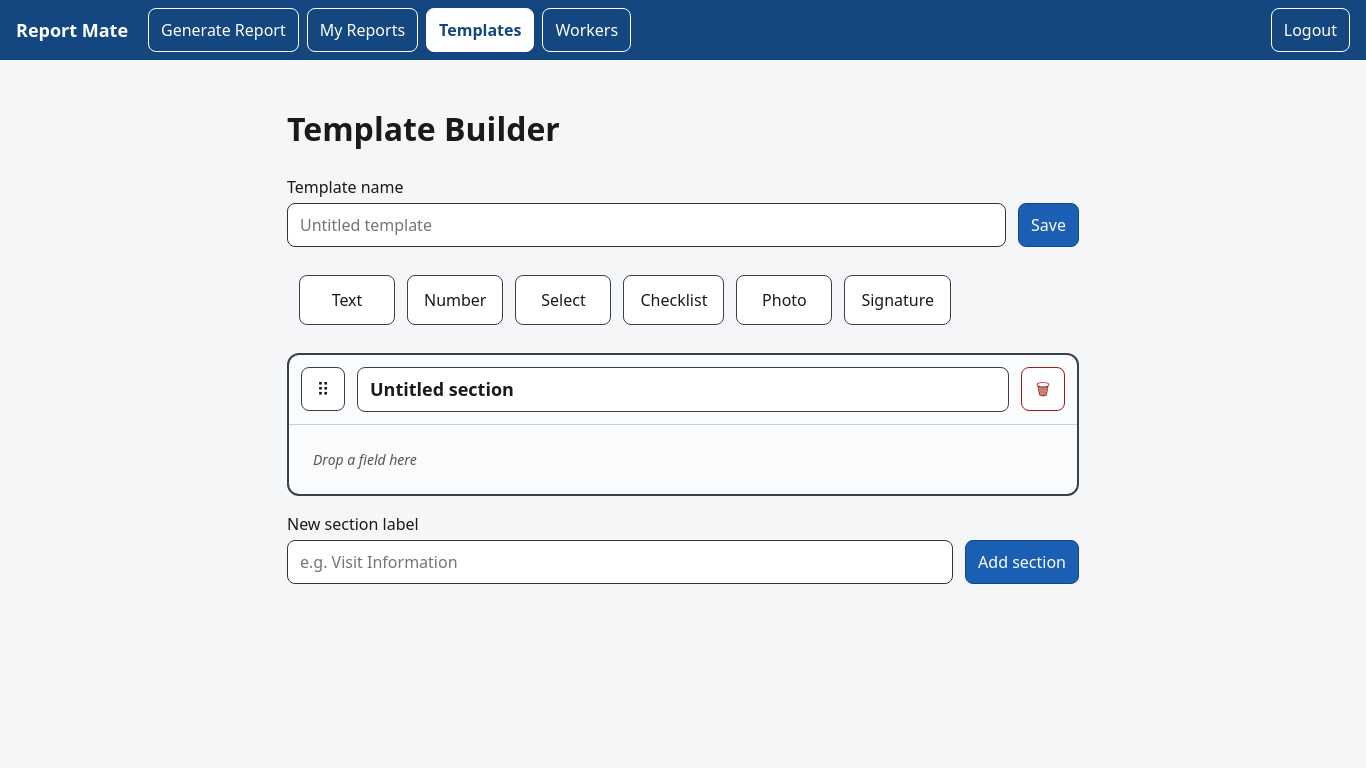
application routing › Generate Report previews the live builder draft directly
# Editing the builder publishes the working draft into the shared context.
Type "Live Draft" into the field labelled "Template name".
click(647, 225); type("Live Draft")  # box x1=287 y1=203 x2=1006 y2=247
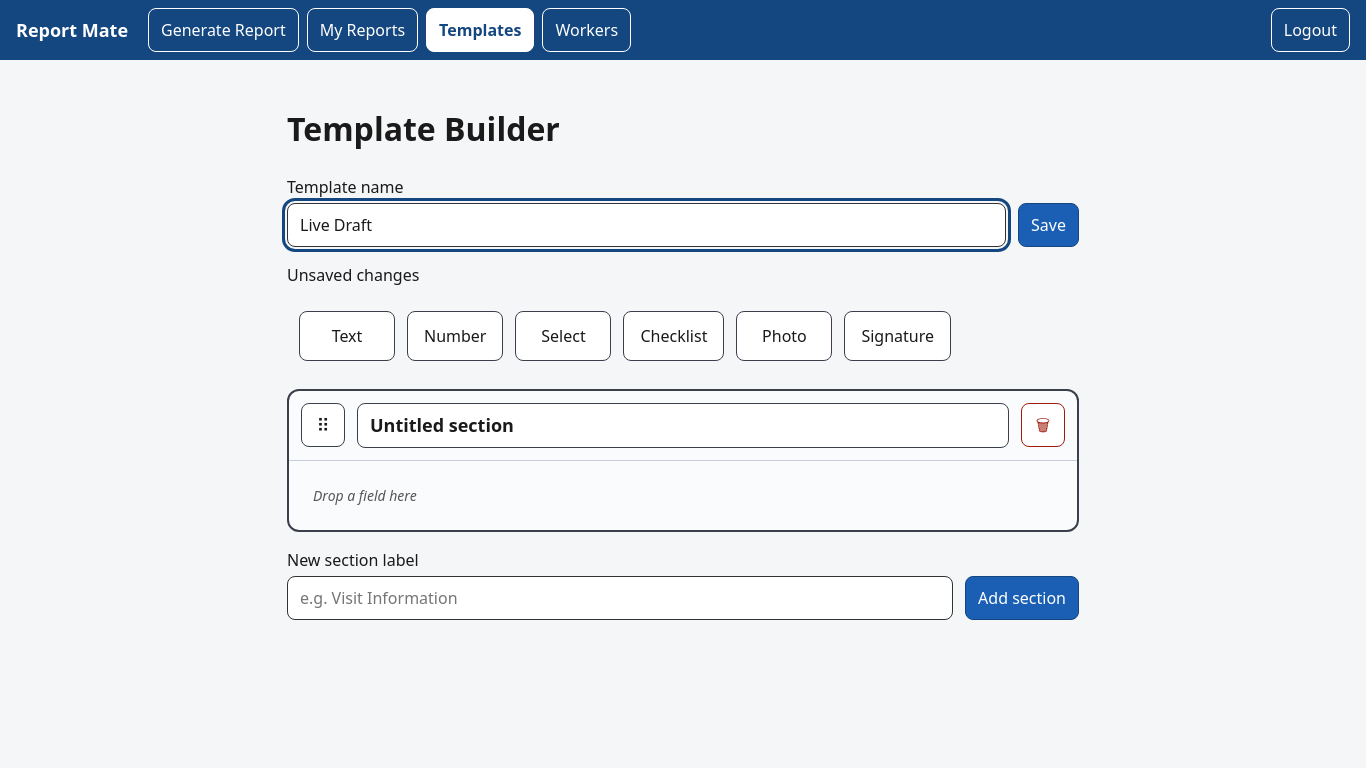
Click the link "Generate Report".
click(223, 30)  # box x1=148 y1=8 x2=299 y2=52
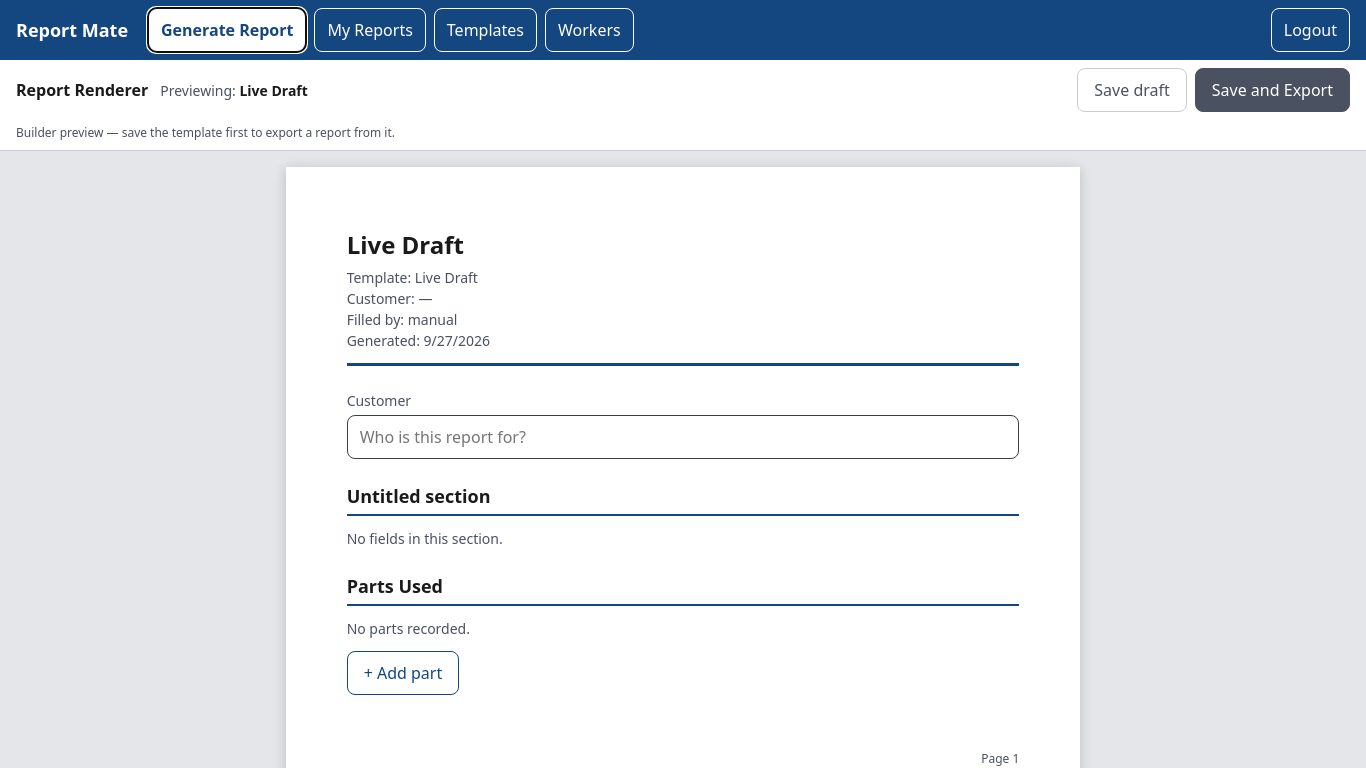
Now the text "Previewing:" is shown, box x1=160 y1=80 x2=239 y2=100
Now the heading "Live Draft" is shown, box x1=347 y1=228 x2=464 y2=262
